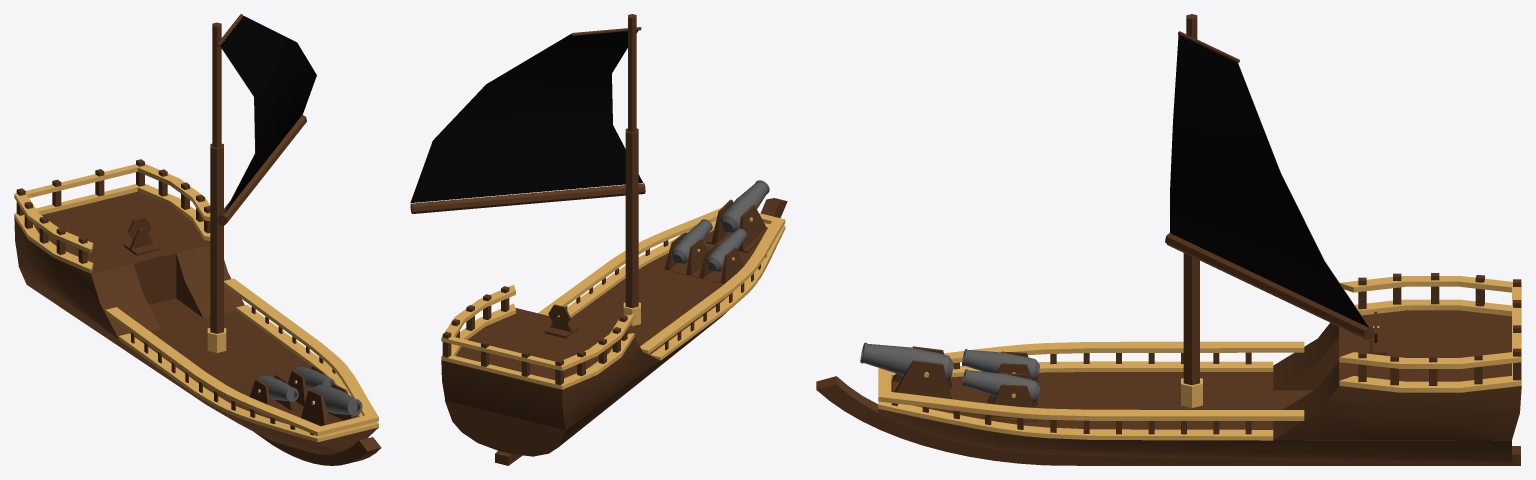
The model's file is Ship.fbx.
3 views of the same model, side by side, from view 1: azimuth 30°, elevation 25°; view 2: azimuth 150°, elevation 25°; view 3: azimuth 270°, elevation 25° (orthographic). The views are drawn at different scales.
Parts seen in each view (by area): view 1: Upper deck, Deck, Deck rails, Sail hangs, Upper deck rails, Sail holder, Connon base normal, Connon normal, Connon upgrade dual1_base, Connon upgrade dual1_connon, wheel holder, Connon upgrade dual2_base (+1 smaller); view 2: Sail hangs, Upper deck, Deck, Deck rails, Upper deck rails, Sail holder, Connon base normal, Connon normal, Connon upgrade dual2_base, Connon upgrade dual1_base, Connon upgrade dual2_connon, Connon upgrade dual1_connon; view 3: Deck, Sail hangs, Upper deck, Deck rails, Upper deck rails, Sail holder, Connon base normal, Connon normal, Connon upgrade dual2_connon, Connon upgrade dual1_connon, Connon upgrade dual2_base.
Boxes of the visible parts, x1,y1,x2,y2 form: Upper deck: [14, 191, 244, 338]; Deck: [18, 266, 381, 465]; Deck rails: [105, 278, 378, 442]; Sail hangs: [216, 14, 316, 225]; Upper deck rails: [14, 159, 210, 273]; Sail holder: [207, 22, 226, 352]; Connon base normal: [301, 384, 356, 426]; Connon normal: [312, 384, 362, 416]; Connon upgrade dual1_base: [249, 374, 300, 417]; Connon upgrade dual1_connon: [257, 375, 298, 402]; wheel holder: [123, 227, 159, 255]; Connon upgrade dual2_base: [288, 365, 324, 408]; Sail hangs: [410, 27, 645, 213]; Upper deck: [441, 308, 659, 429]; Deck: [445, 198, 787, 465]; Deck rails: [538, 207, 785, 360]; Upper deck rails: [441, 285, 634, 389]; Sail holder: [623, 14, 640, 326]; Connon base normal: [706, 199, 767, 252]; Connon normal: [720, 180, 769, 233]; Connon upgrade dual2_base: [660, 234, 706, 276]; Connon upgrade dual1_base: [695, 243, 744, 283]; Connon upgrade dual2_connon: [671, 219, 712, 264]; Connon upgrade dual1_connon: [705, 228, 747, 272]; Deck: [816, 372, 1520, 465]; Sail hangs: [1165, 31, 1374, 339]; Upper deck: [1273, 310, 1521, 440]; Deck rails: [878, 341, 1304, 440]; Upper deck rails: [1339, 273, 1521, 392]; Sail holder: [1181, 14, 1202, 407]; Connon base normal: [892, 346, 952, 399]; Connon normal: [860, 342, 953, 380]; Connon upgrade dual2_connon: [962, 369, 1039, 402]; Connon upgrade dual1_connon: [962, 349, 1039, 380]; Connon upgrade dual2_base: [987, 373, 1037, 421].
Size of the model in its own units: 145 by 217 by 311.
